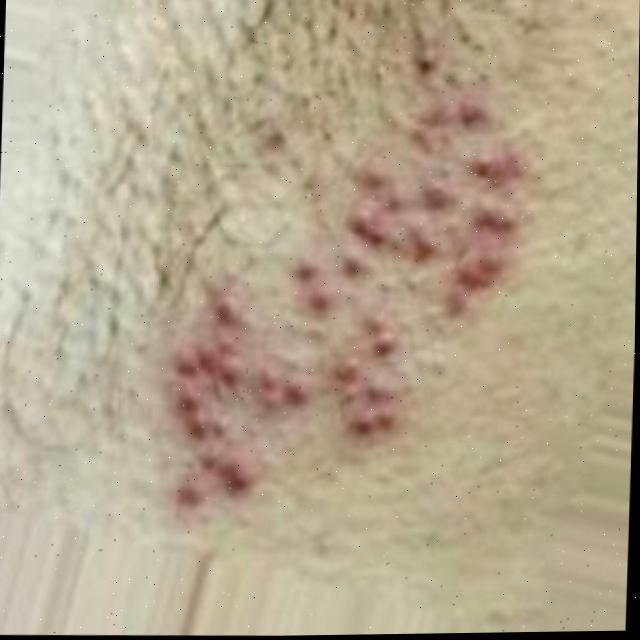Shingles: (167, 84, 537, 515)
